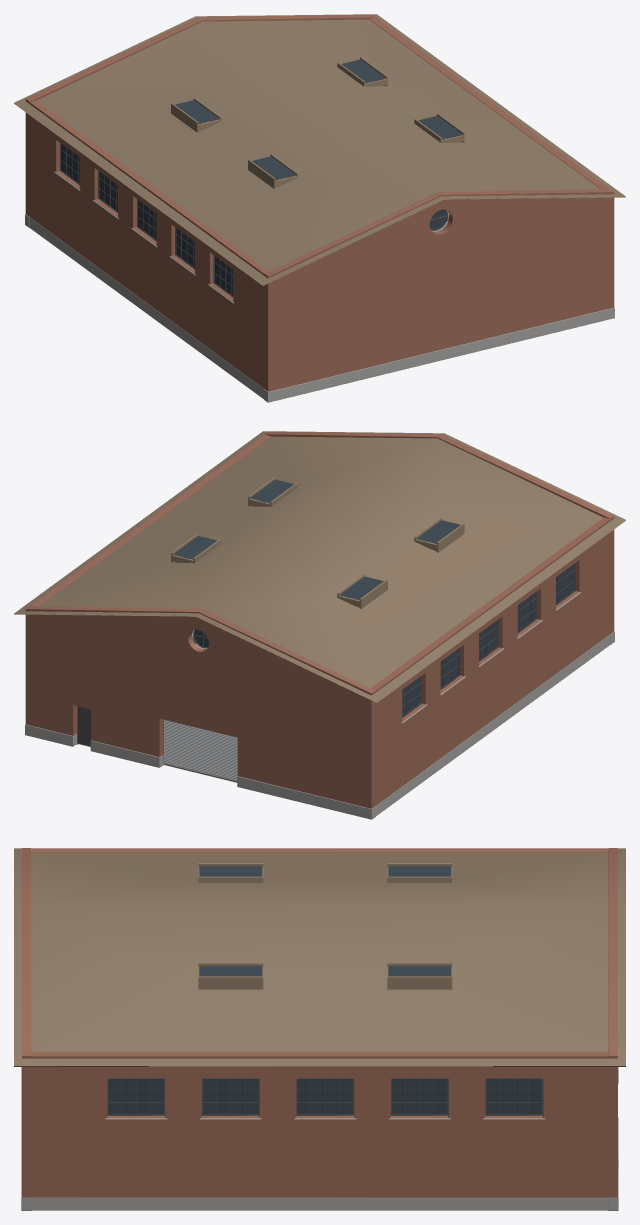
File: funeral_warehouse.glb
3 renders of one model, top to bottom at view 1: azimuth 30°, elevation 25°; view 2: azimuth 150°, elevation 25°; view 3: azimuth 270°, elevation 25°, orthographic. The views are drawn at different scales.
Visible parts, largest first — view 1: roof_deck, wall_front, wall_side_L, stem_wall, window_glass, wall_back, wall_side_R, skylight_curbs, window_sash; view 2: roof_deck, wall_back, wall_side_L, stem_wall, window_glass, rolling_door, wall_front, skylight_curbs, wall_side_R, window_sash, ped_door; view 3: roof_deck, wall_side_R, window_glass, stem_wall, skylight_curbs, wall_back, wall_front, wall_side_L, window_sash, wall_trim.
Part boxes in pixels (x1,y1,x2,y2): roof_deck: (14,14,625,285); wall_front: (264,189,614,391); wall_side_L: (25,100,274,391); stem_wall: (25,214,614,402); window_glass: (61,59,462,295); wall_back: (25,14,375,216); wall_side_R: (369,17,613,308); skylight_curbs: (171,57,464,188); window_sash: (60,143,233,297); roof_deck: (14,431,625,702); wall_back: (25,606,375,808); wall_side_L: (365,517,614,807); stem_wall: (25,631,614,819); window_glass: (173,479,574,716); rolling_door: (163,719,237,782); wall_front: (264,431,614,633); skylight_curbs: (171,477,464,608); wall_side_R: (25,434,270,725); window_sash: (402,563,575,717); ped_door: (76,706,90,746); roof_deck: (14,848,625,1066); wall_side_R: (22,1052,617,1197); window_glass: (108,866,541,1113); stem_wall: (21,1067,618,1210); skylight_curbs: (198,863,452,989); wall_back: (608,848,617,1197); wall_front: (22,848,31,1197); wall_side_L: (31,848,608,852); window_sash: (107,1078,542,1115); wall_trim: (105,1078,545,1119).
Size of the model in its own units: 19.62 by 8.58 by 23.32.
